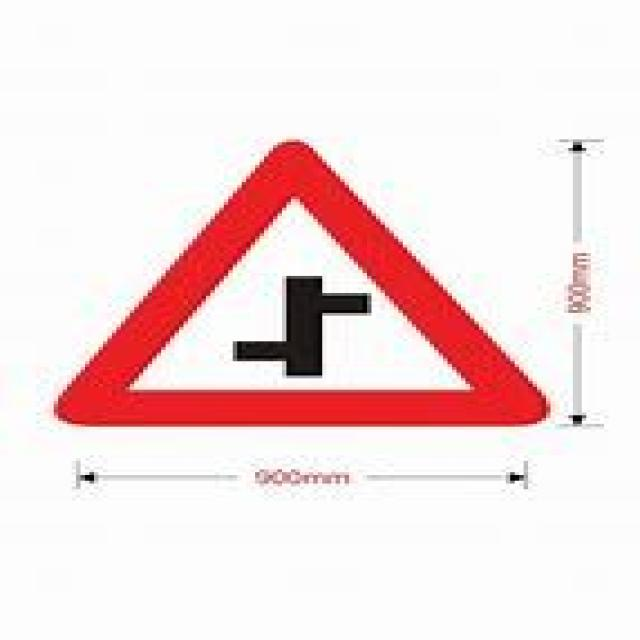STAGGERED_INTERSECTION: (37, 134, 568, 444)
